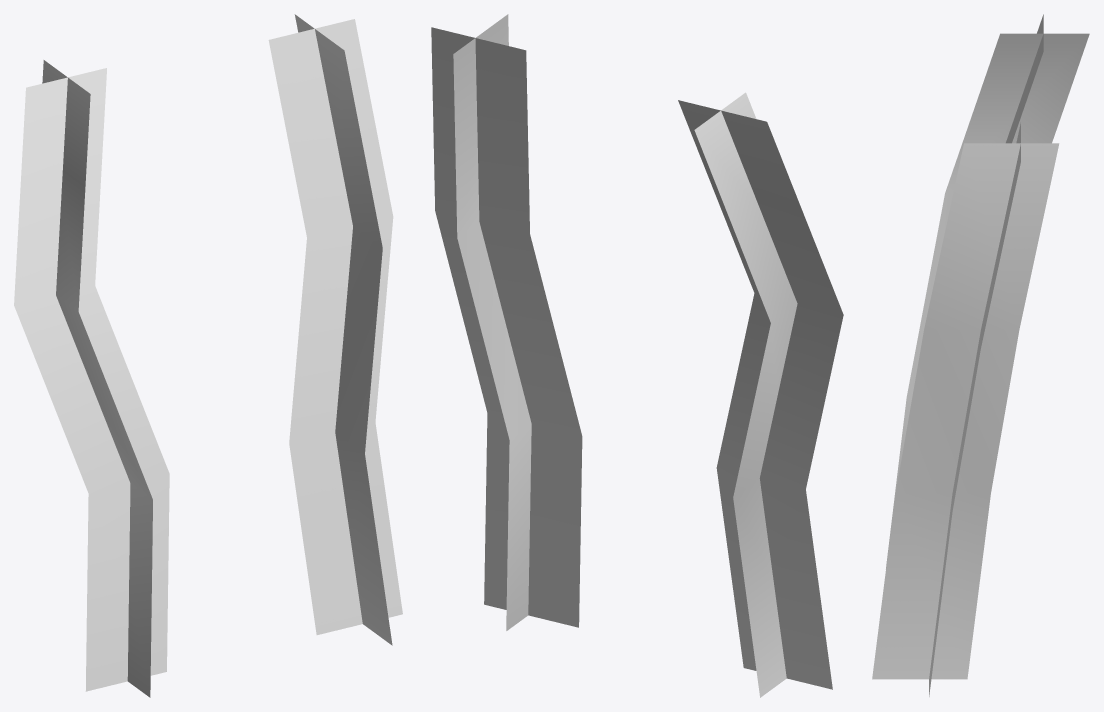
The model's file is s7_teng_lxx.FBX.
The picture shows the model from 3 angles, left to right: view 1: azimuth 30°, elevation 25°; view 2: azimuth 150°, elevation 25°; view 3: azimuth 270°, elevation 25°; orthographic projection. The views are drawn at different scales.
Visible parts, largest first — view 1: s7_teng_lxx_01, s7_teng_lxx_02; view 2: s7_teng_lxx_01, s7_teng_lxx_02; view 3: s7_teng_lxx_01, s7_teng_lxx_02.
Part boxes in pixels (x1=…): s7_teng_lxx_01: x1=268, y1=14, x2=402, y2=645; s7_teng_lxx_02: x1=14, y1=60, x2=169, y2=697; s7_teng_lxx_01: x1=431, y1=14, x2=582, y2=630; s7_teng_lxx_02: x1=678, y1=92, x2=843, y2=697; s7_teng_lxx_01: x1=872, y1=122, x2=1059, y2=696; s7_teng_lxx_02: x1=886, y1=14, x2=1089, y2=567.
Bounding box in the file's own units: 2.15 × 3.07 × 1.13.
